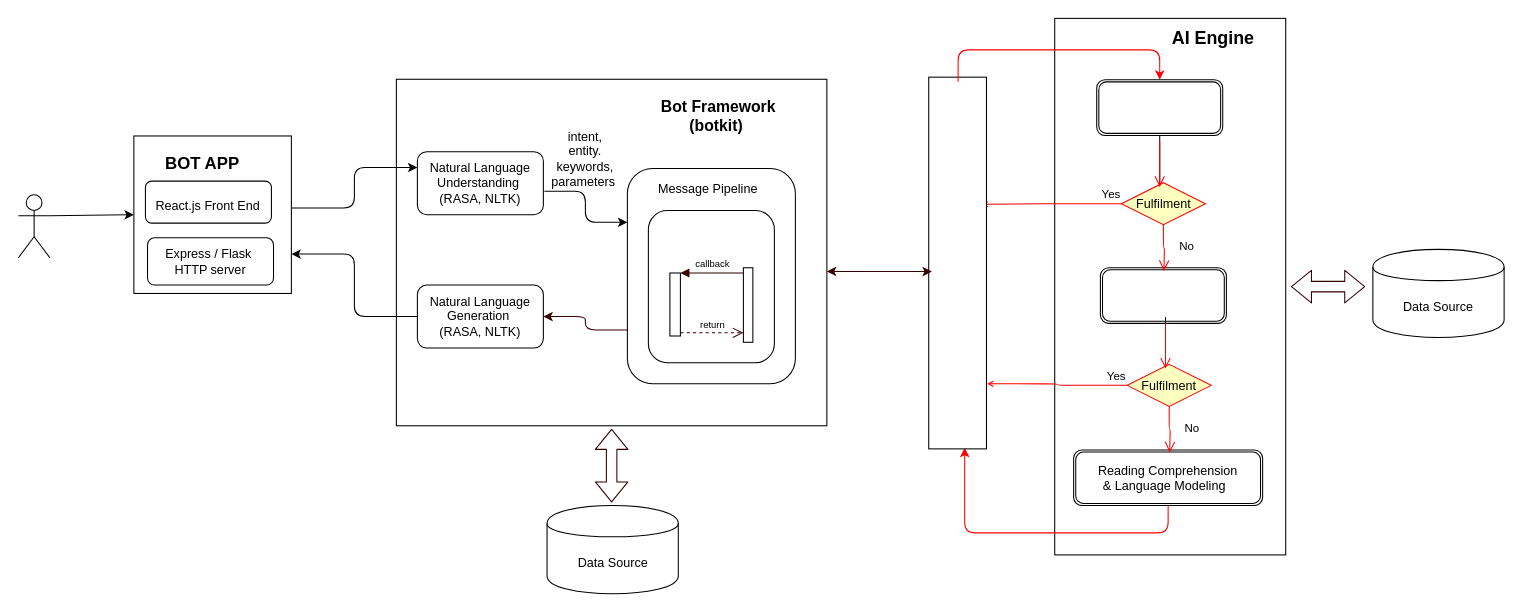
The diagram is 1522 pixels wide and 612 high, and some of its shapes have lost their labels. The centre of each missing label's shape, as x and y in pixels:
Actor: the point at 33,226
Business Logic: the point at 1159,107
Conversation & Dialog management: the point at 710,286
Dialog Tree & ML classifier: the point at 1162,295
Logic Handling API Interface: the point at 957,262
